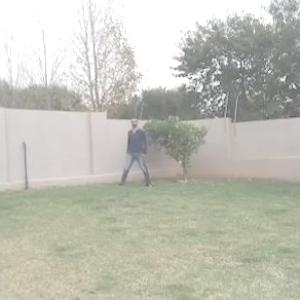follow: (128, 114, 147, 186)
